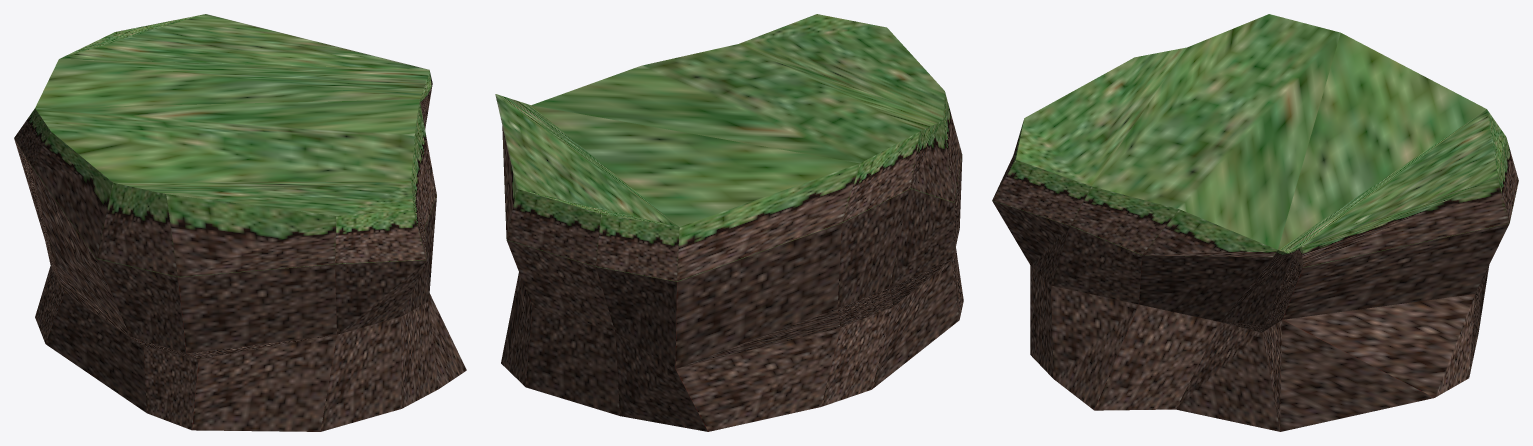
File: Mountain1.glb
3 views of the same model, side by side, from view 1: azimuth 30°, elevation 25°; view 2: azimuth 150°, elevation 25°; view 3: azimuth 270°, elevation 25° (orthographic). The views are drawn at different scales.
Visible parts, largest first — view 1: Mountain1; view 2: Mountain1; view 3: Mountain1.
Part boxes in pixels (bbox=[...]): Mountain1: bbox=[14, 14, 466, 431]; Mountain1: bbox=[495, 14, 963, 431]; Mountain1: bbox=[992, 14, 1518, 431].
Size of the model in its own units: 9.37 by 5.76 by 11.05.
1 material, 1 textured.
